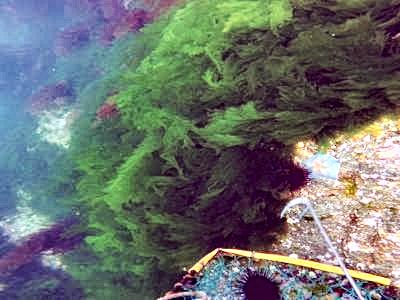urchin: (240, 270, 276, 293), (284, 163, 306, 186)
